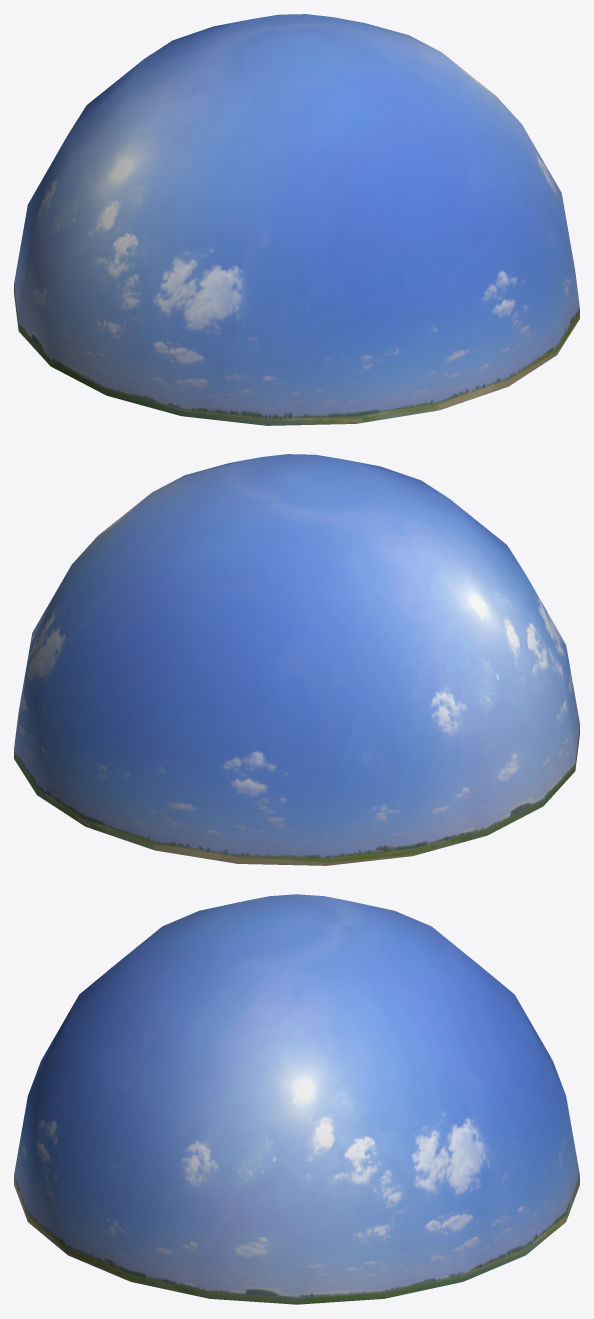
File: SKY2.FBX
3 renders of one model, top to bottom at view 1: azimuth 30°, elevation 25°; view 2: azimuth 150°, elevation 25°; view 3: azimuth 270°, elevation 25°, orthographic.
Parts seen in each view (by area): view 1: sky2; view 2: sky2; view 3: sky2.
Part boxes in pixels (x1,y1,x2,y2): sky2: [14, 14, 579, 425]; sky2: [14, 454, 579, 865]; sky2: [14, 894, 579, 1304].
Size of the model in its own units: 316676 by 164472 by 316676.
Materials: 1 (1 with a texture image).
